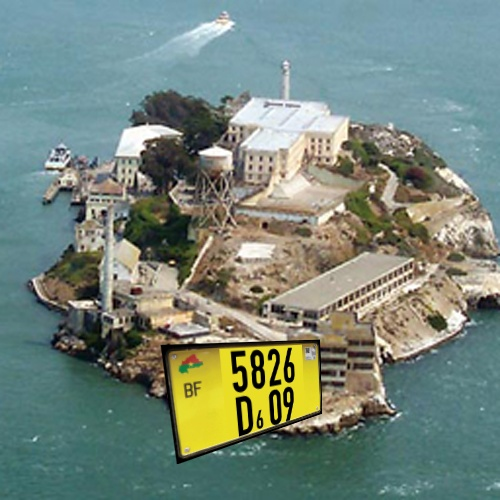plate: (145, 331, 336, 466)
